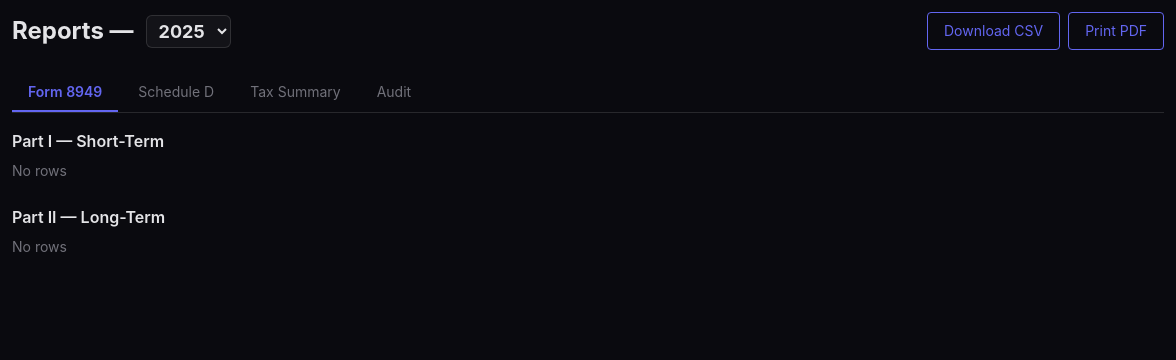
Reports › runs validation from Audit tab
The width and height of the screenshot is (1176, 360).
Check: the heading "Part I — Short-Term" is shown, box x1=12 y1=131 x2=164 y2=151
Click the button "Audit" at point(394, 93), box x1=361 y1=74 x2=427 y2=112
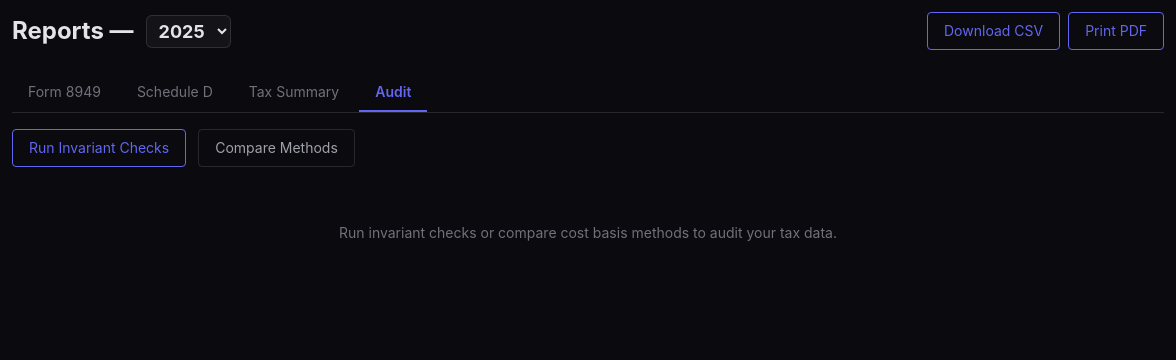
Check: the button "Run Invariant Checks" is shown
Click the button "Run Invariant Checks" at point(99, 148), box x1=12 y1=129 x2=186 y2=167
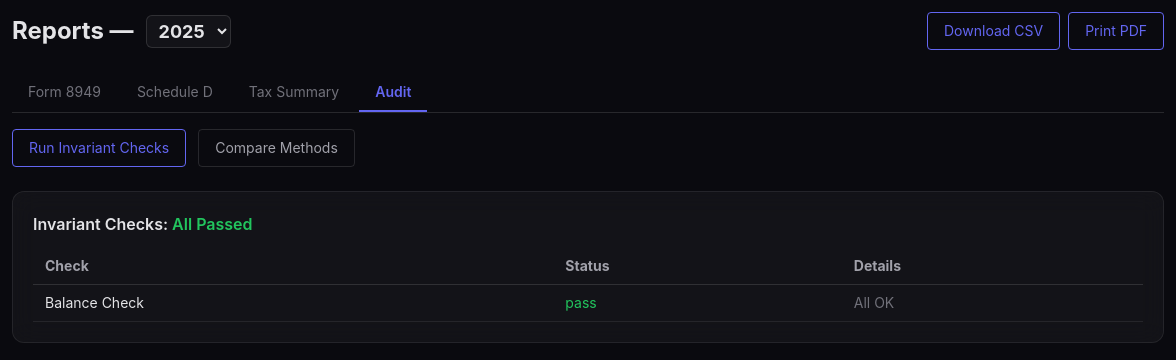
Check: the text "Balance Check" is shown, box x1=33 y1=284 x2=553 y2=322
Check: the text "All Passed" is shown, box x1=172 y1=214 x2=252 y2=234
